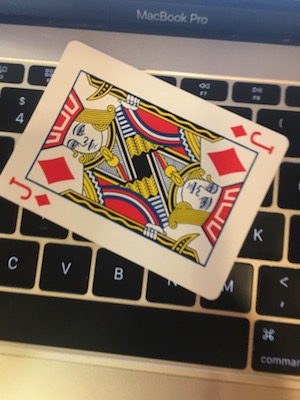JackOfDiamonds: (3, 38, 292, 301)
